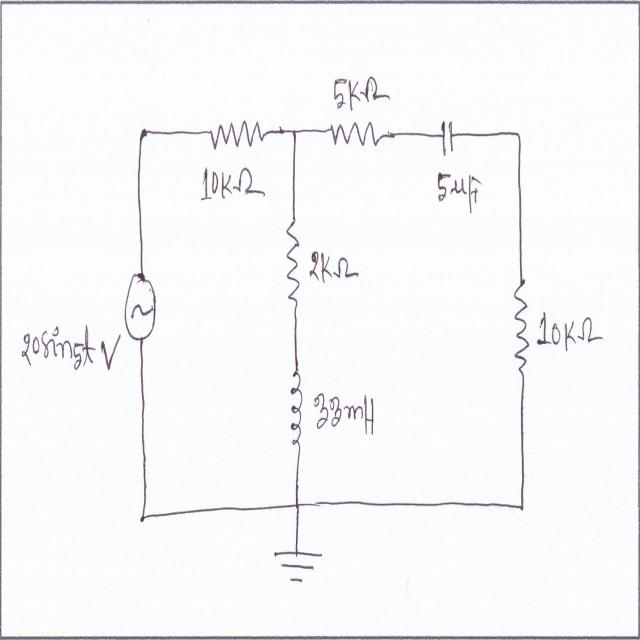ac_current: (124, 266, 161, 349)
capacitor: (437, 119, 458, 163)
ground: (271, 546, 328, 594)
inductor: (288, 365, 307, 453)
resistor: (328, 111, 385, 158), (209, 116, 267, 159), (513, 273, 533, 379), (281, 218, 303, 307)
